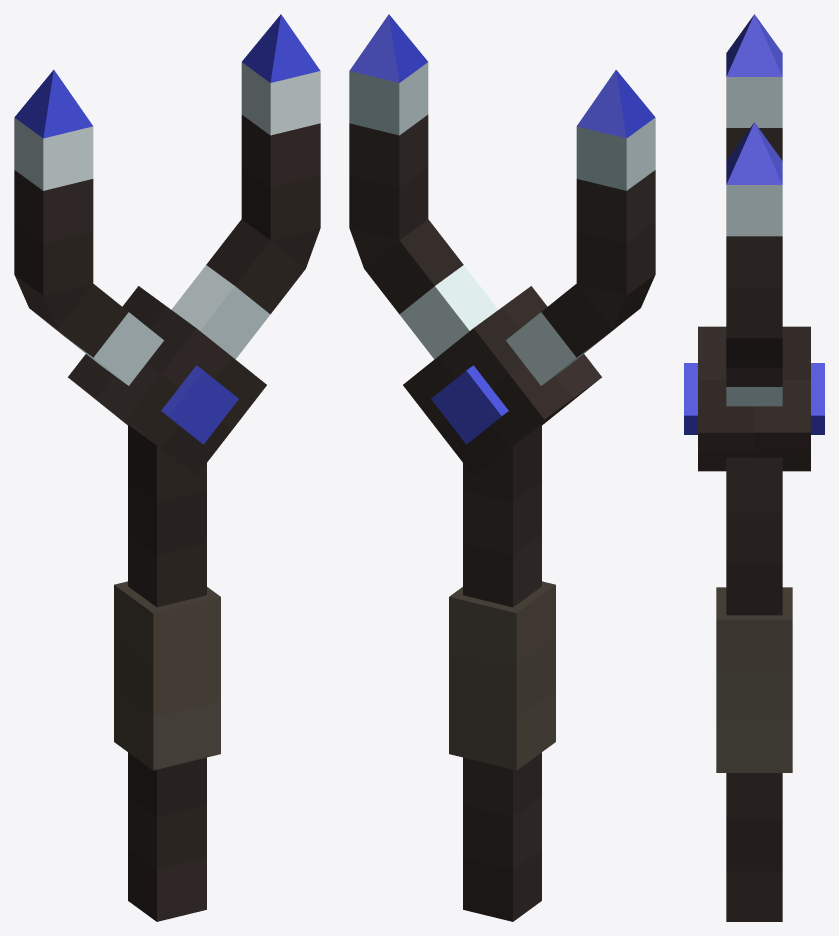
File: dowsingrod.obj
The picture shows the model from 3 angles, left to right: view 1: azimuth 30°, elevation 25°; view 2: azimuth 150°, elevation 25°; view 3: azimuth 270°, elevation 25°; orthographic projection. The views are drawn at different scales.
Parts seen in each view (by area): view 1: DOWSING_ROD_Cube.001; view 2: DOWSING_ROD_Cube.001; view 3: DOWSING_ROD_Cube.001.
Part boxes in pixels (left/top/right/bottom): DOWSING_ROD_Cube.001: left=14, top=14, right=320, bottom=921; DOWSING_ROD_Cube.001: left=349, top=14, right=655, bottom=921; DOWSING_ROD_Cube.001: left=684, top=14, right=824, bottom=921.
Bounding box in the file's own units: 0.346 × 1.03 × 0.1562.
